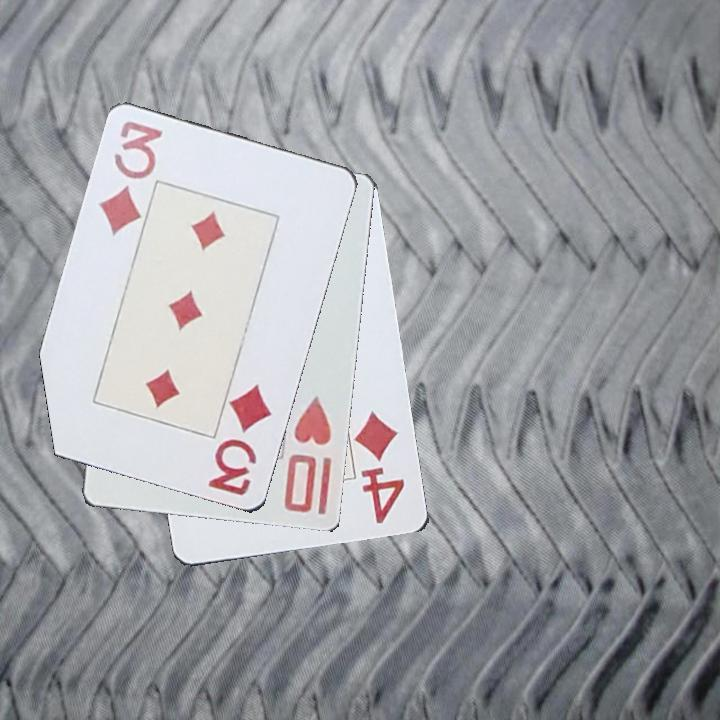3d: (94, 118, 166, 240), (205, 381, 276, 500)
4d: (352, 408, 408, 527)
Th: (280, 392, 335, 517)
